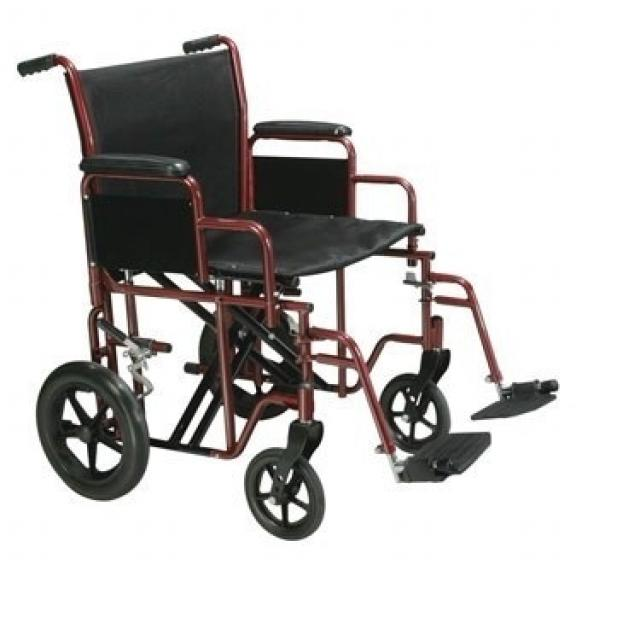wheelchair: (4, 29, 566, 547)
